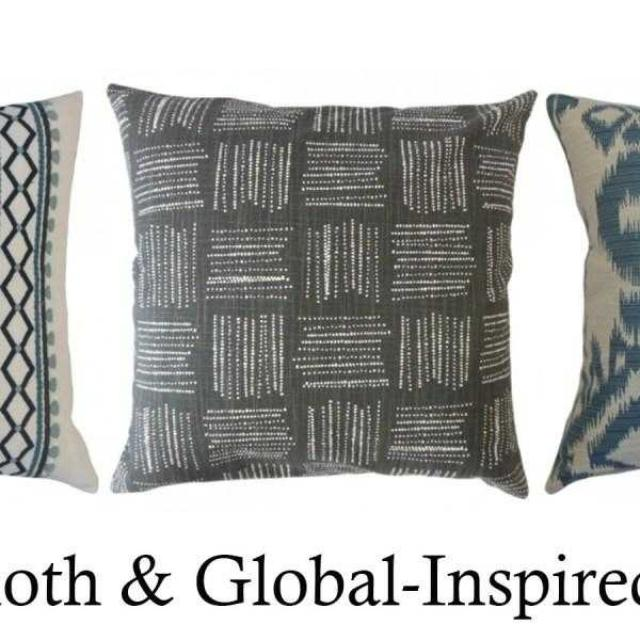pillow: (105, 81, 538, 498), (0, 89, 98, 493), (543, 90, 639, 493)
